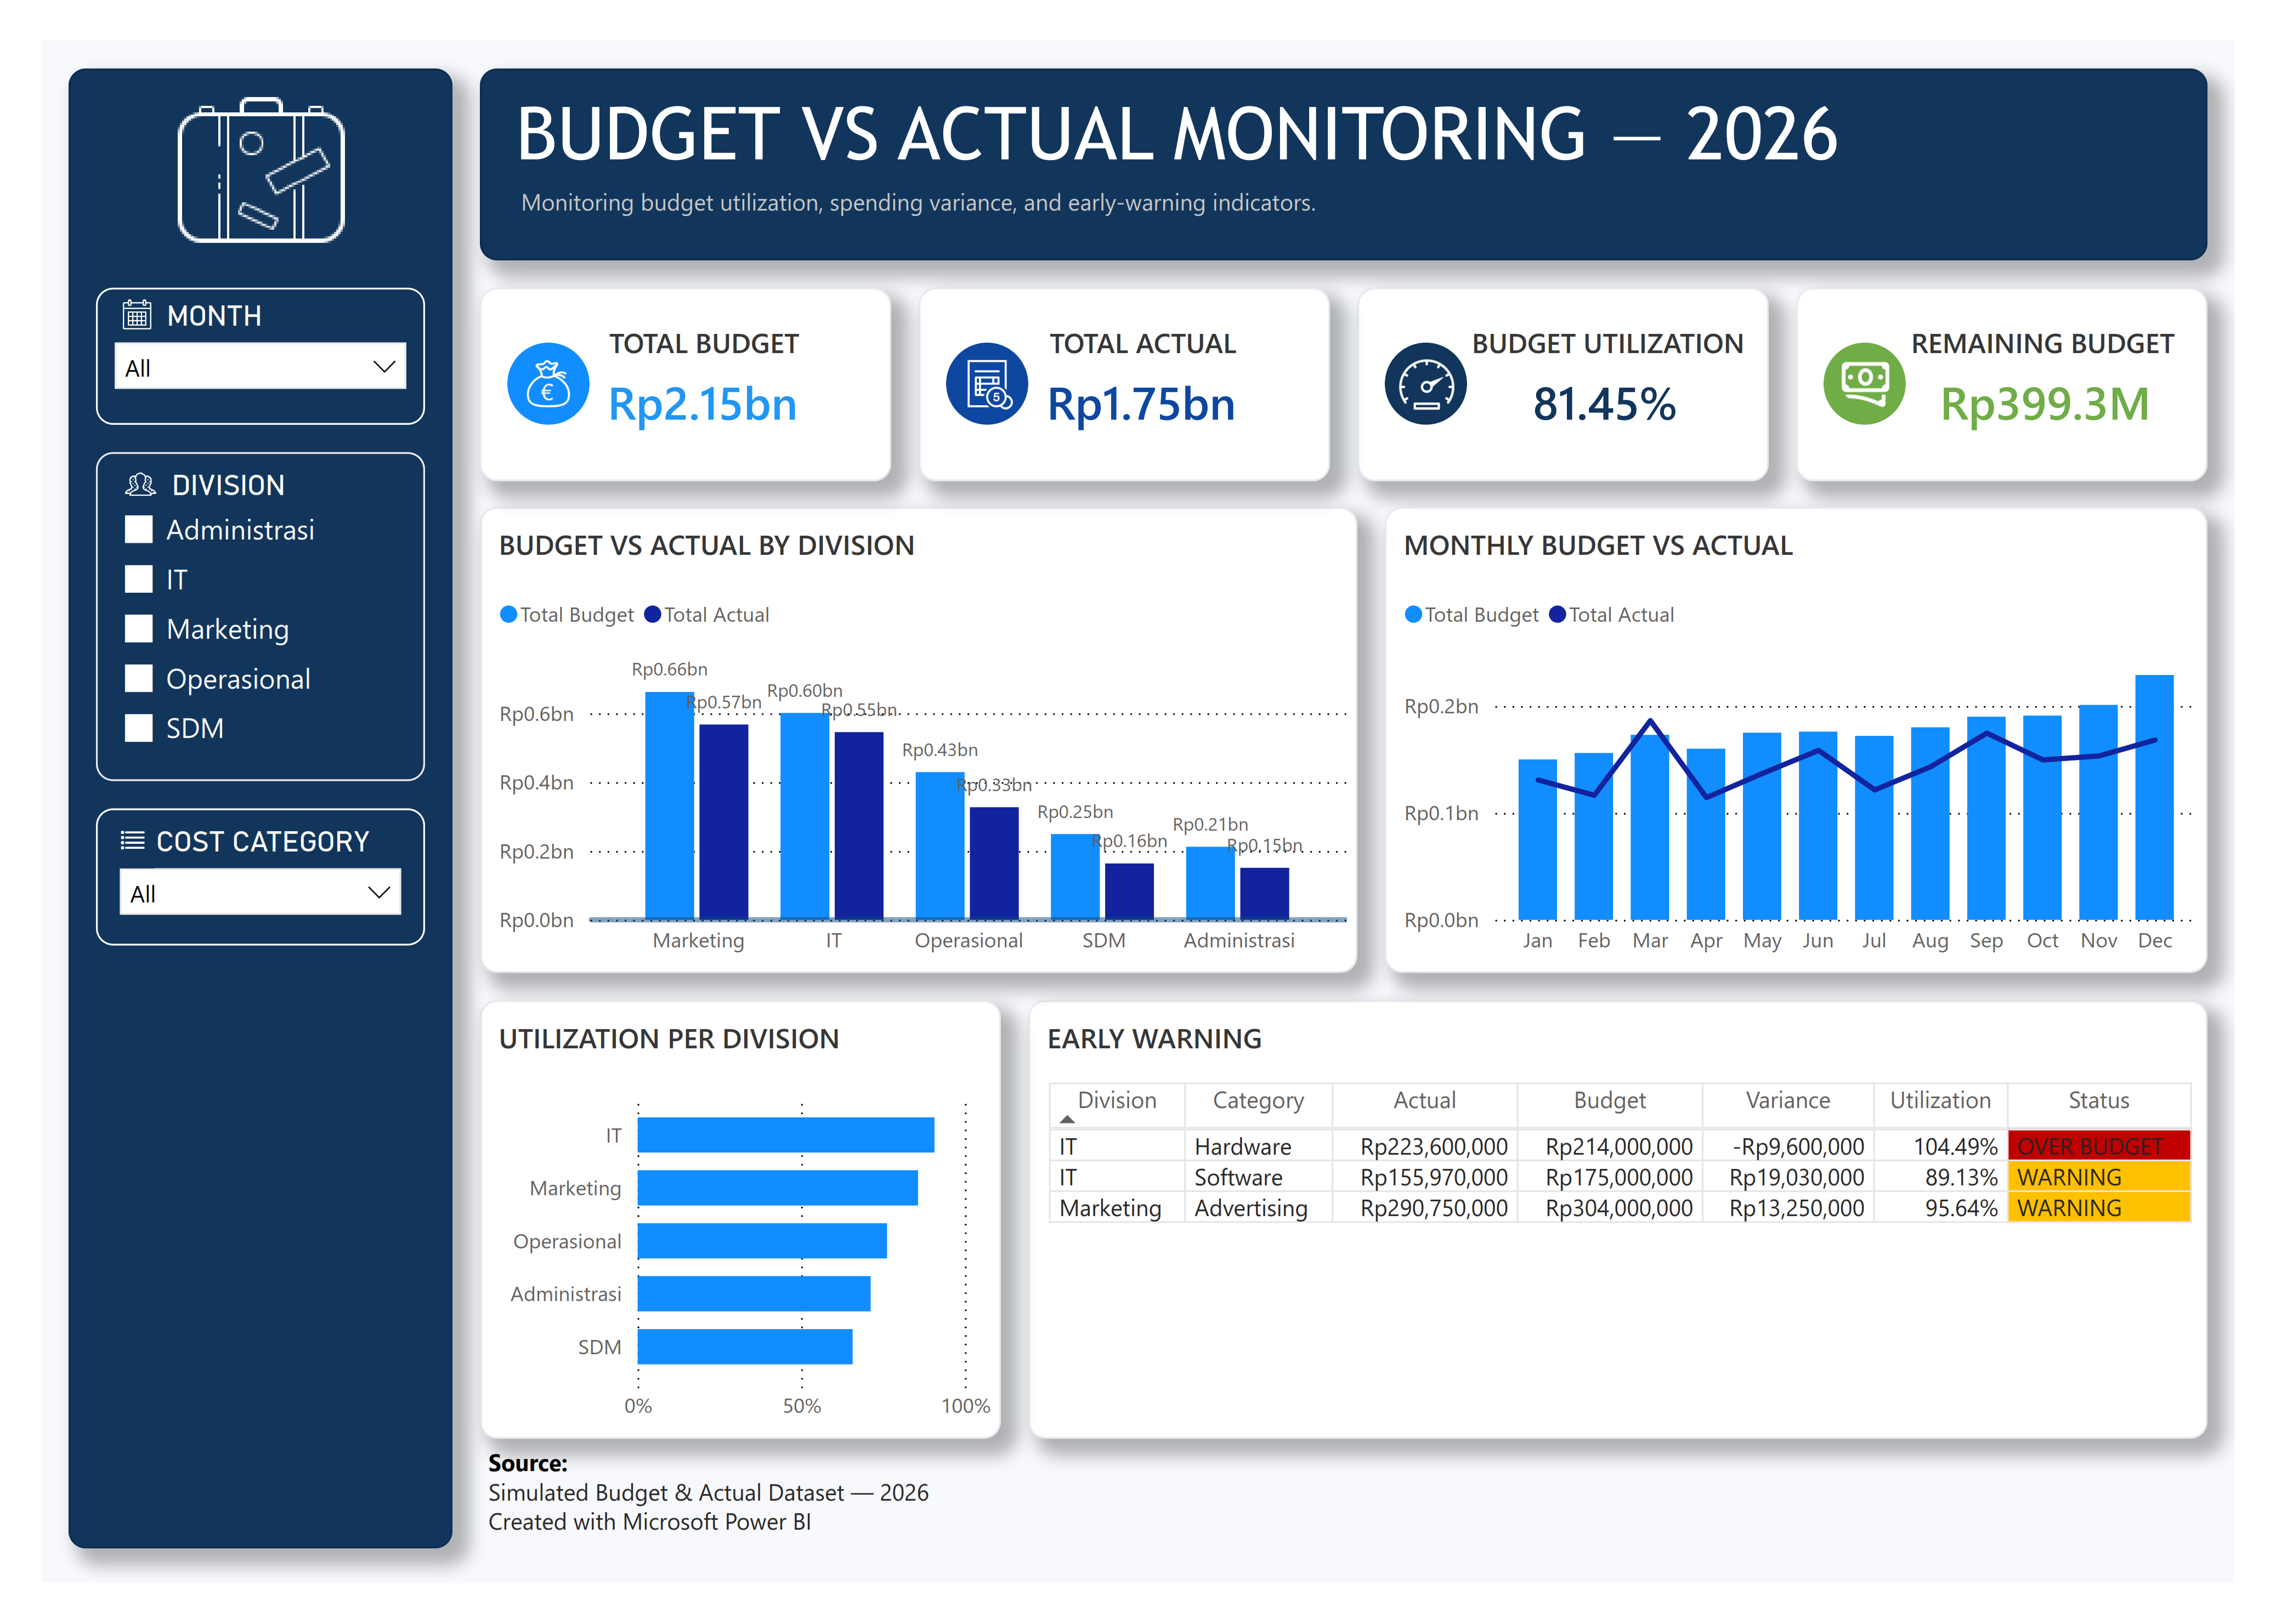

The dashboard page shown, as its layout file describes it:
{"tool":"powerbi","page":{"name":"Dashboard","canvas":[1280,900],"ordinal":0},"visuals":[{"type":"shape","box":[256,16,1008,112],"z":0},{"type":"textbox","box":[272,24,848,64],"z":1000},{"type":"cardVisual","title":"BUDGET UTILIZATION","fields":{"Data":["Measures (2).Utilization %"]},"box":[768,144,240,113],"z":2000},{"type":"cardVisual","title":"REMAINING BUDGET","fields":{"Data":["Measures (2).Remaining Budget"]},"box":[1024,144,240,113],"z":3000},{"type":"tableEx","title":"EARLY WARNING","fields":{"Values":["DimDivision.Division","DimCategory.Cost_Category","Measures (2).Total Actual","Measures (2).Total Budget","Measures (2).Variance","Measures (2).Utilization %","Measures (2).Budget Status"]},"box":[576,560,688,256],"z":4000},{"type":"textbox","box":[256,816,512,64],"z":5000},{"type":"textbox","box":[280,80,800,32],"z":6000},{"type":"clusteredColumnChart","title":"BUDGET VS ACTUAL BY DIVISION","fields":{"Category":["DimDivision.Division"],"Y":["Measures (2).Total Budget","Measures (2).Total Actual"]},"box":[256,272,512,272],"z":7000},{"type":"lineClusteredColumnComboChart","title":"MONTHLY BUDGET VS ACTUAL","fields":{"Category":["DimMonth.Month"],"Y":["Measures (2).Total Budget"],"Y2":["Measures (2).Total Actual"]},"box":[784,272,480,272],"z":8000},{"type":"barChart","title":"UTILIZATION PER DIVISION","fields":{"Category":["DimDivision.Division"],"Y":["Measures (2).Utilization %"]},"box":[256,560,304,256],"z":9000},{"type":"shape","box":[16,16,224,864],"z":10000},{"type":"slicer","fields":{"Values":["DimMonth.Month"]},"box":[32,144,192,80],"z":11000},{"type":"slicer","fields":{"Values":["DimDivision.Division"]},"box":[32,240,192,192],"z":12000},{"type":"slicer","fields":{"Values":["DimCategory.Cost_Category"]},"box":[32,448,192,80],"z":13000},{"type":"cardVisual","title":"TOTAL ACTUAL","fields":{"Data":["Measures (2).Total Actual"]},"box":[512,144,240,113],"z":14000},{"type":"cardVisual","title":"TOTAL BUDGET","fields":{"Data":["Measures (2).Total Budget"]},"box":[256,144,240,113],"z":15000},{"type":"shape","box":[1040,176,48,48],"z":16000},{"type":"shape","box":[784,176,48,48],"z":17000},{"type":"shape","box":[528,176,48,48],"z":18000},{"type":"shape","box":[272,176,48,48],"z":19000},{"type":"image","box":[264,160,64,80],"z":20000},{"type":"image","box":[528,176,48,48],"z":21000},{"type":"image","box":[784,176,48,48],"z":22000},{"type":"image","box":[1040,176,48,48],"z":23000},{"type":"image","box":[40,144,32,30],"z":24000},{"type":"image","box":[40,240,36,35],"z":25000},{"type":"image","box":[40,448,26,35],"z":26000},{"type":"image","box":[48,32,160,88],"z":27000}]}

Visuals, with their boxes on the page's 1280x900 design canvas (x1, y1, x2, y2). These are canvas units, not pixel positions in the 2276x1624 screenshot, which may show the page scaled, cropped or inside an application window:
shape: bbox(256, 16, 1264, 128)
textbox: bbox(272, 24, 1120, 88)
"BUDGET UTILIZATION" cardVisual: bbox(768, 144, 1008, 257)
"REMAINING BUDGET" cardVisual: bbox(1024, 144, 1264, 257)
"EARLY WARNING" tableEx: bbox(576, 560, 1264, 816)
textbox: bbox(256, 816, 768, 880)
textbox: bbox(280, 80, 1080, 112)
"BUDGET VS ACTUAL BY DIVISION" clusteredColumnChart: bbox(256, 272, 768, 544)
"MONTHLY BUDGET VS ACTUAL" lineClusteredColumnComboChart: bbox(784, 272, 1264, 544)
"UTILIZATION PER DIVISION" barChart: bbox(256, 560, 560, 816)
shape: bbox(16, 16, 240, 880)
slicer - DimMonth.Month: bbox(32, 144, 224, 224)
slicer - DimDivision.Division: bbox(32, 240, 224, 432)
slicer - DimCategory.Cost_Category: bbox(32, 448, 224, 528)
"TOTAL ACTUAL" cardVisual: bbox(512, 144, 752, 257)
"TOTAL BUDGET" cardVisual: bbox(256, 144, 496, 257)
shape: bbox(1040, 176, 1088, 224)
shape: bbox(784, 176, 832, 224)
shape: bbox(528, 176, 576, 224)
shape: bbox(272, 176, 320, 224)
image: bbox(264, 160, 328, 240)
image: bbox(528, 176, 576, 224)
image: bbox(784, 176, 832, 224)
image: bbox(1040, 176, 1088, 224)
image: bbox(40, 144, 72, 174)
image: bbox(40, 240, 76, 275)
image: bbox(40, 448, 66, 483)
image: bbox(48, 32, 208, 120)
